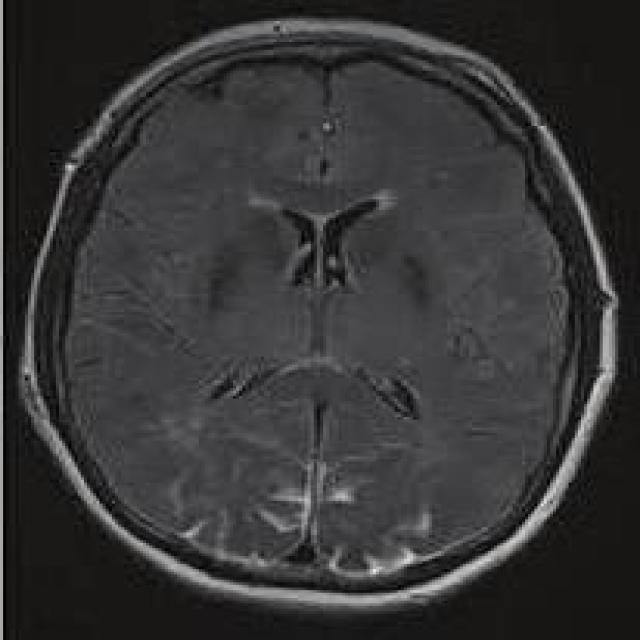notumor: (22, 18, 615, 609)
